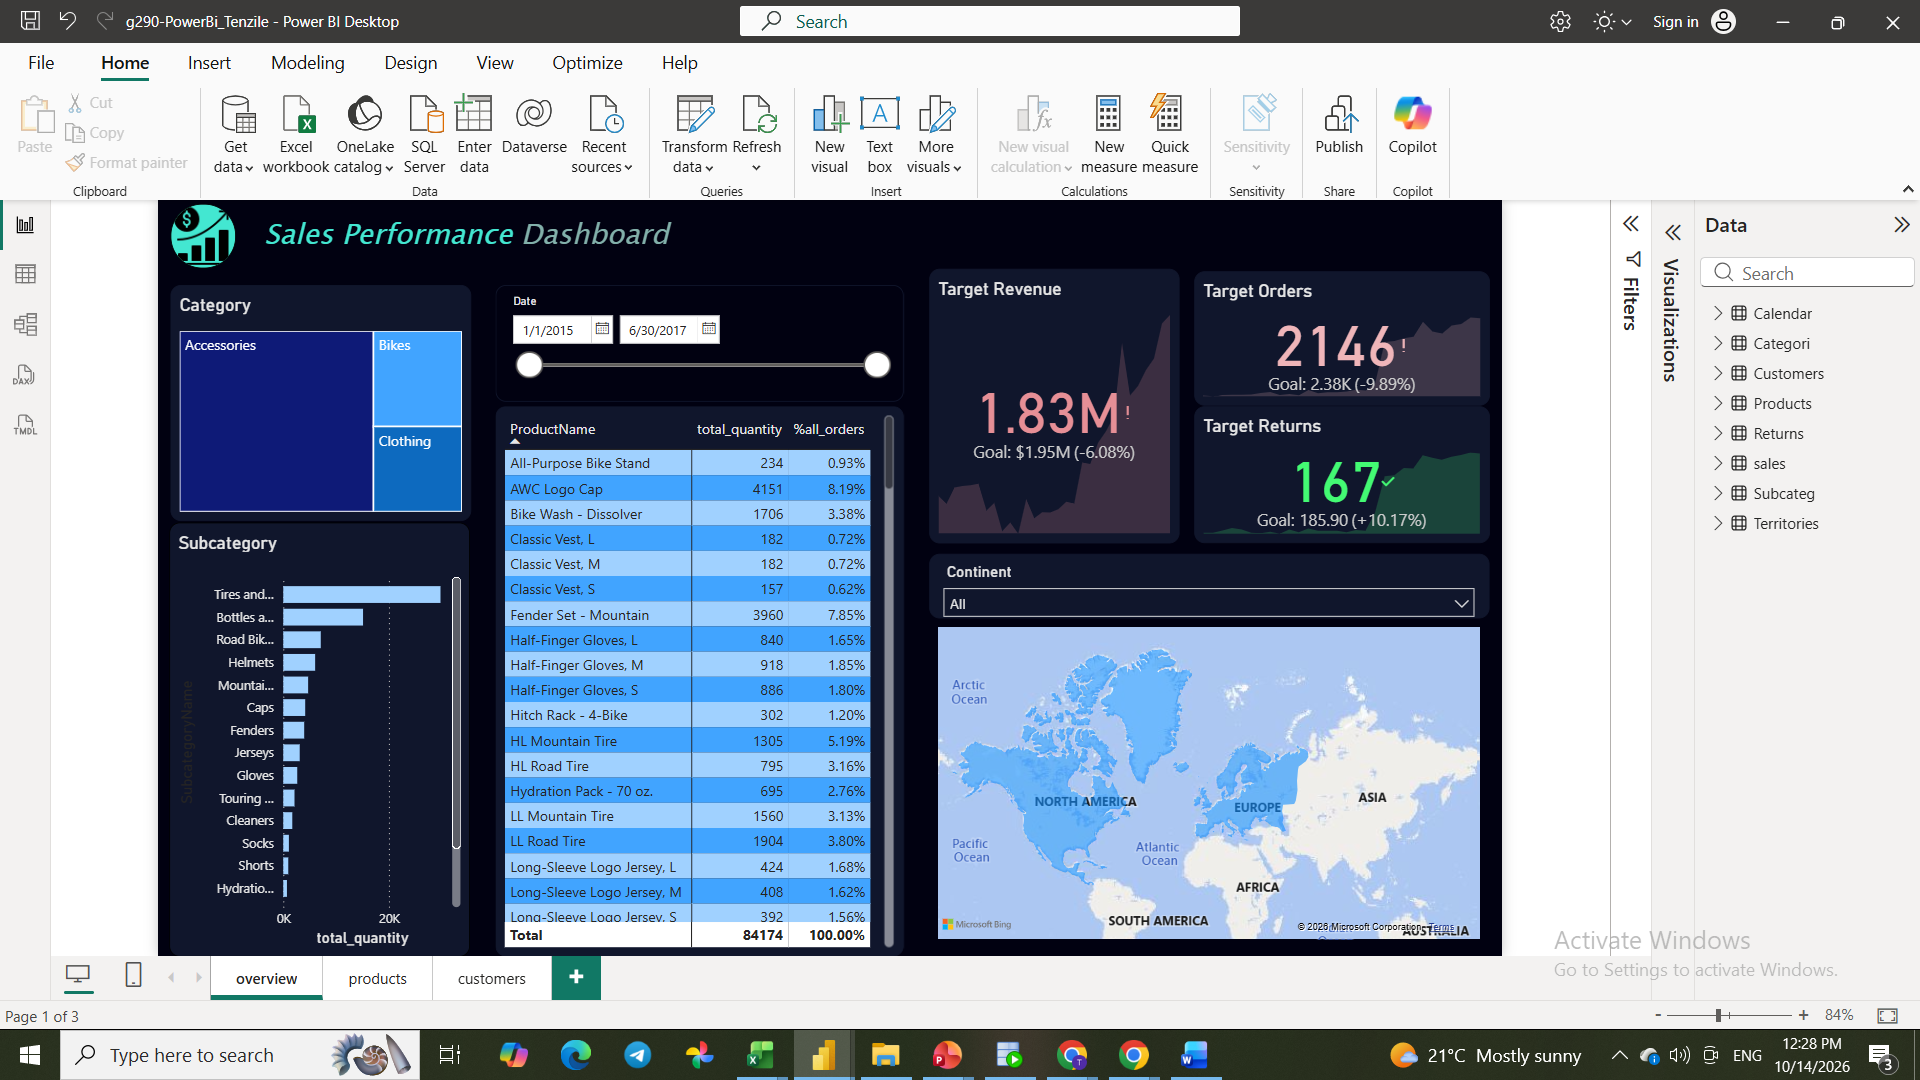

The page's visual inventory and layout, read from the dashboard file:
{"tool":"powerbi","page":{"name":"overview","canvas":[1280,720],"ordinal":0},"visuals":[{"type":"treemap","title":"Category","fields":{"Group":["Categori.CategoryName"],"Values":["sales.total_quantity"]},"box":[12,81.3,286.7,225],"z":0},{"type":"clusteredBarChart","title":"Subcategory","fields":{"Category":["Subcateg.SubcategoryName"],"Y":["sales.total_quantity"]},"box":[10.7,306.7,286.7,413.3],"z":1000},{"type":"pivotTable","fields":{"Rows":["Products.ProductName"],"Values":["sales.total_quantity","sales.%all_orders"]},"box":[321.8,196.2,388.5,524.4],"z":2000},{"type":"slicer","fields":{"Values":["Calendar.Date"]},"box":[321.8,80.8,388.5,111.5],"z":3000},{"type":"kpi","title":"Target Revenue","fields":{"Indicator":["sales.total_revenue"],"Goal":["sales.target_revenue"],"TrendLine":["Calendar.Start of Month"]},"box":[734.7,65.3,238.5,261.5],"z":4000},{"type":"kpi","title":"Target Orders","fields":{"Goal":["sales.order_target"],"Indicator":["Returns.total_orders"],"TrendLine":["Calendar.Start of Month"]},"box":[986.7,68,281.7,128.3],"z":5000},{"type":"kpi","title":"Target Returns","fields":{"Goal":["Returns.target_returns"],"Indicator":["Returns.total_returns"],"TrendLine":["Calendar.Start of Month"]},"box":[986.7,196,281.3,130.7],"z":6000},{"type":"filledMap","fields":{"Category":["Territories.Continent"]},"box":[734.7,398.7,533.3,313.3],"z":7000},{"type":"slicer","fields":{"Values":["Territories.Continent"]},"box":[734.7,337.3,533.3,61.7],"z":8000},{"type":"textbox","box":[96,6.7,698.7,58.7],"z":9000},{"type":"image","box":[12,4,62.7,61.3],"z":10000}]}

Visuals, with their boxes on the page's 1280x720 design canvas (x1, y1, x2, y2). These are canvas units, not pixel positions in the 1920x1080 screenshot, which may show the page scaled, cropped or inside an application window:
"Category" treemap: 12:81:299:306
"Subcategory" clusteredBarChart: 11:307:297:720
pivotTable - Products.ProductName x sales.total_quantity: 322:196:710:721
slicer - Calendar.Date: 322:81:710:192
"Target Revenue" kpi: 735:65:973:327
"Target Orders" kpi: 987:68:1268:196
"Target Returns" kpi: 987:196:1268:327
filledMap - Territories.Continent: 735:399:1268:712
slicer - Territories.Continent: 735:337:1268:399
textbox: 96:7:795:65
image: 12:4:75:65
